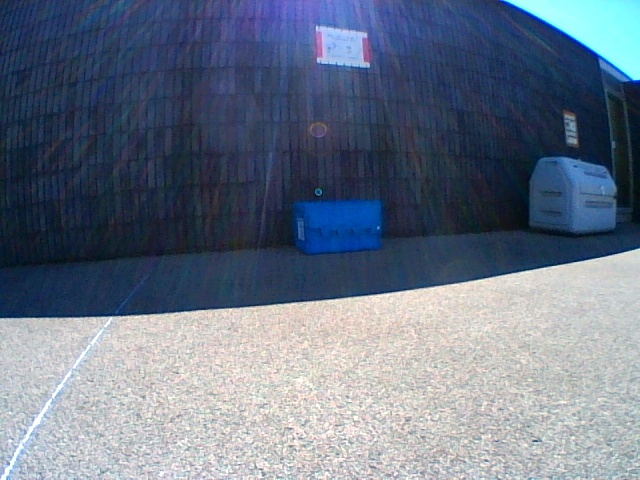blue_box: (293, 200, 379, 253)
tag: (298, 218, 303, 237)
